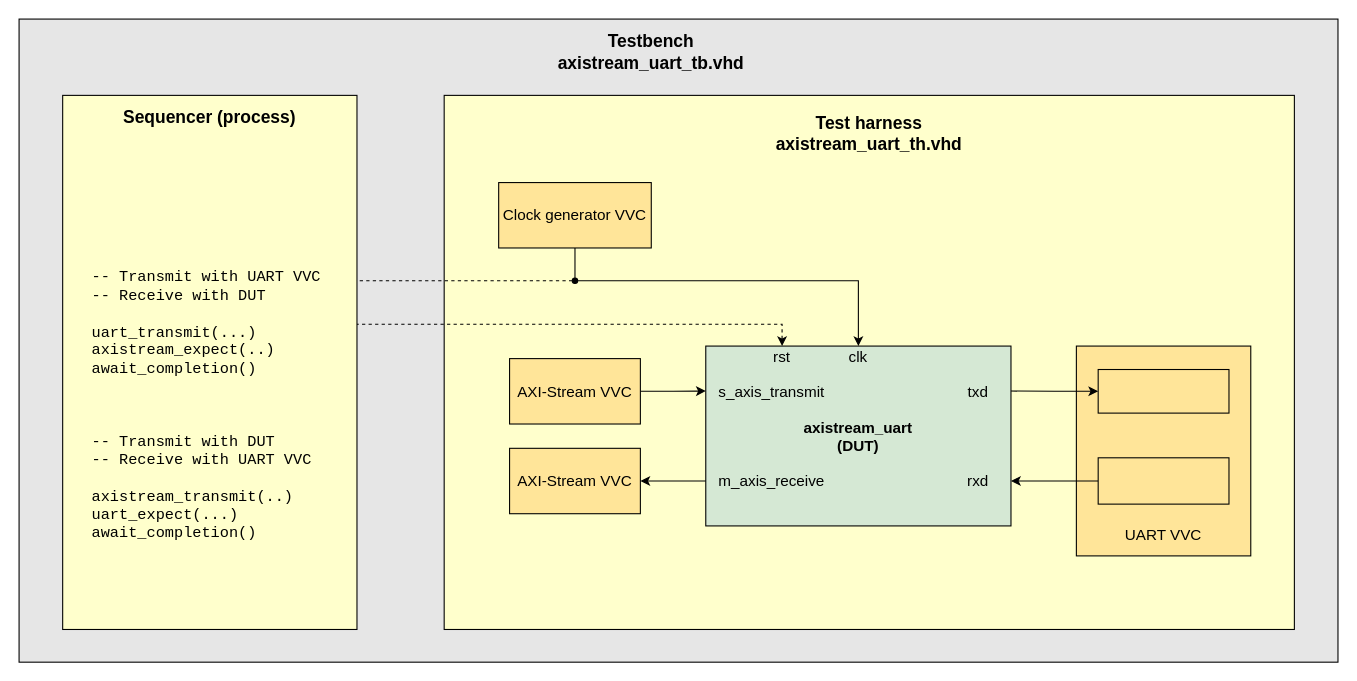
The diagram is 1357 pixels wide and 681 high, and some of its shapes have lost their labels. The shapes that lost their labels are listed below. From the top down, each one's centre as x and y in pixels, then its label:
At point 1163,390: "UART RX VVC".
At point 1163,480: "UART TX VVC".
